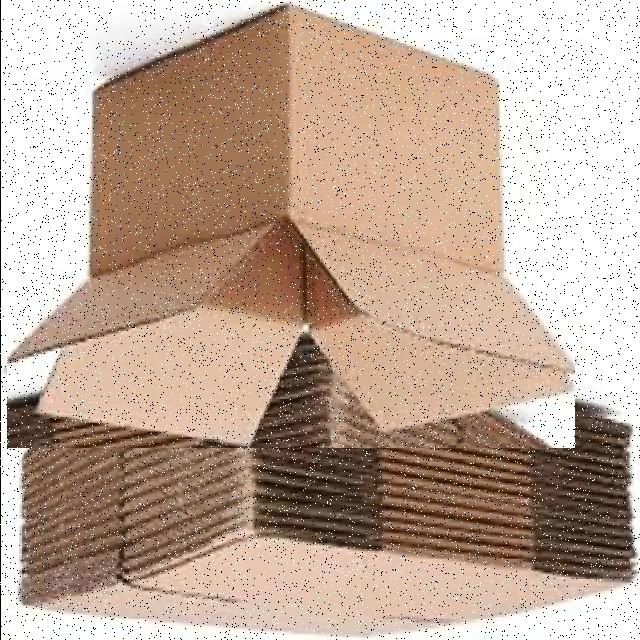defect: (6, 0, 574, 448)
